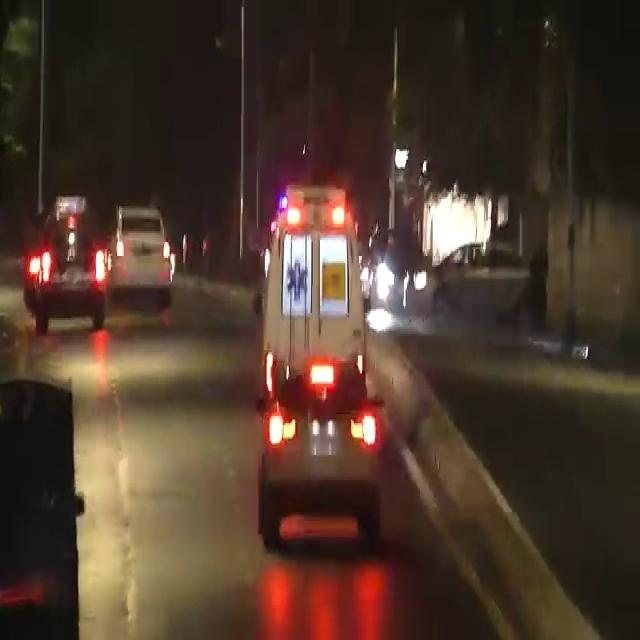ambulance: (256, 180, 378, 402)
